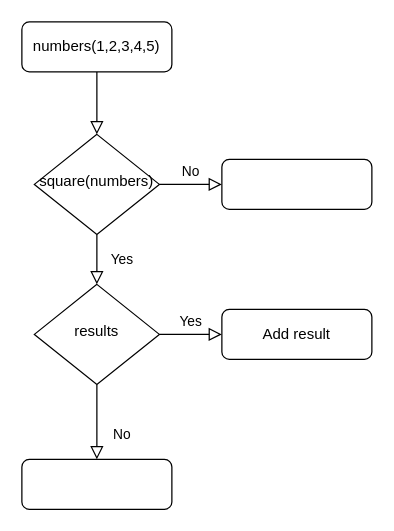
Image size: 394x531. Some labels were removed from this diagram. Here are the shapes that lost their labels. From the top down, the box of each, then its label:
(221, 158, 372, 209): square root(numbers)
(21, 458, 172, 509): multiply results
